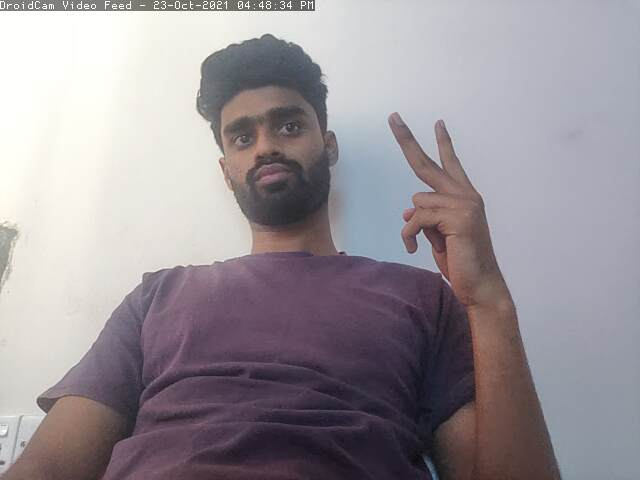Victory: (384, 106, 506, 303)
